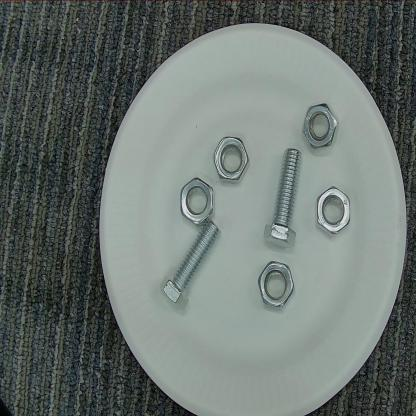FOD: (155, 216, 227, 312), (259, 146, 307, 247), (250, 255, 301, 311), (212, 130, 254, 184), (176, 176, 218, 228), (316, 183, 354, 240), (300, 100, 341, 146)
